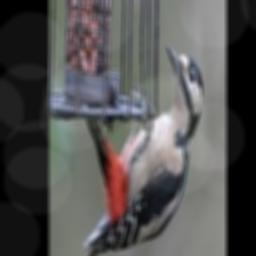Woodpecker: (84, 45, 203, 256)
